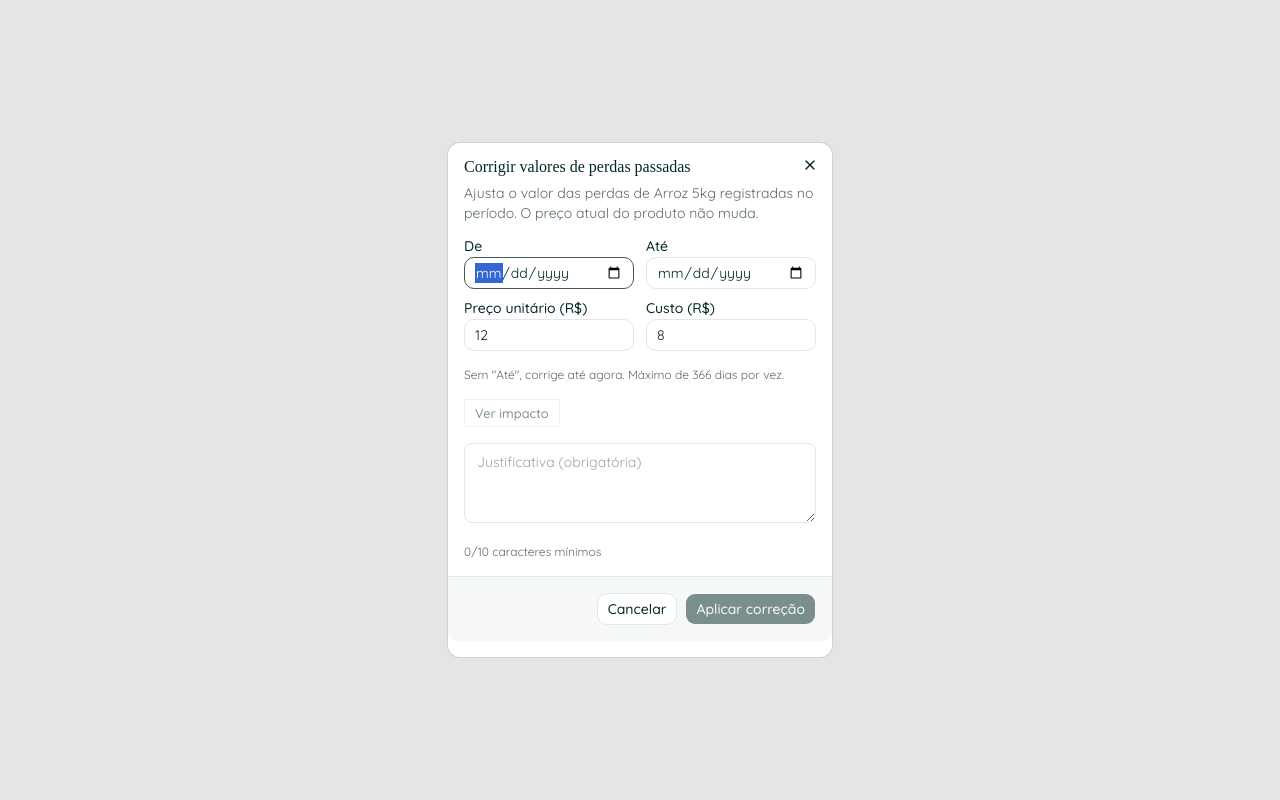
RetroFixDialog › prévia com o período do dia inteiro e os valores atuais do produto
Expected: the heading "Corrigir valores de perdas passadas" is shown, [464,158,691,175]
Type "2026-09-01" into the date field labelled "De" at (549, 273), box [464,257,634,289]
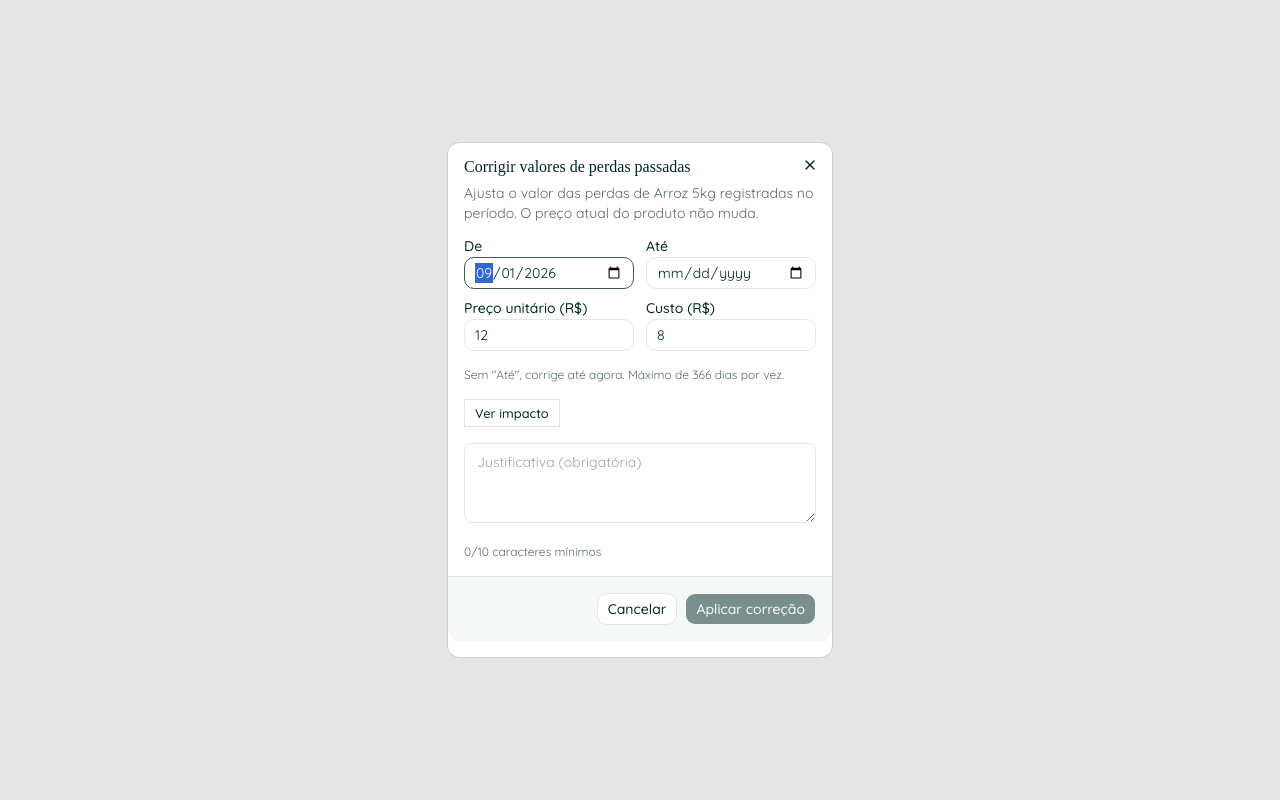
Type "2026-09-20" into the date field labelled "Até" at (731, 273), box [646,257,816,289]
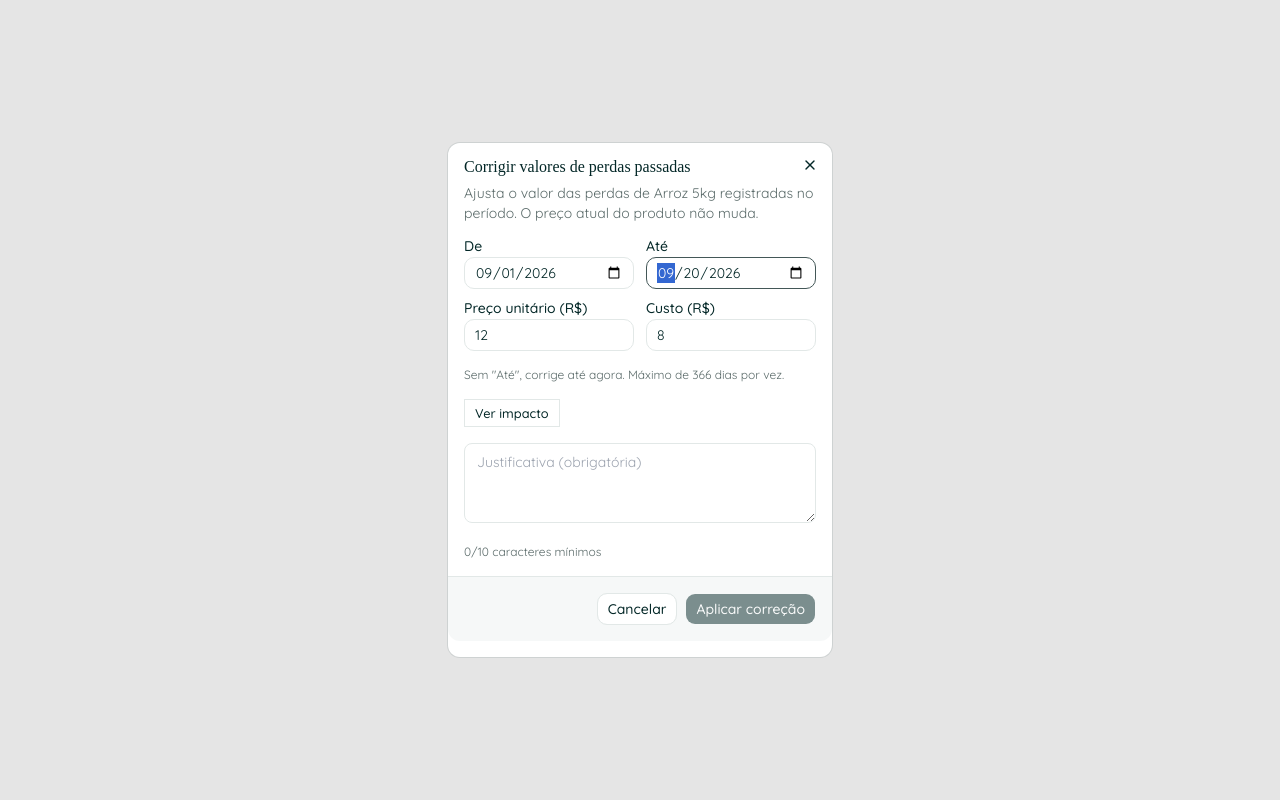
Click the button "Ver impacto" at (512, 413), box [464,399,560,427]
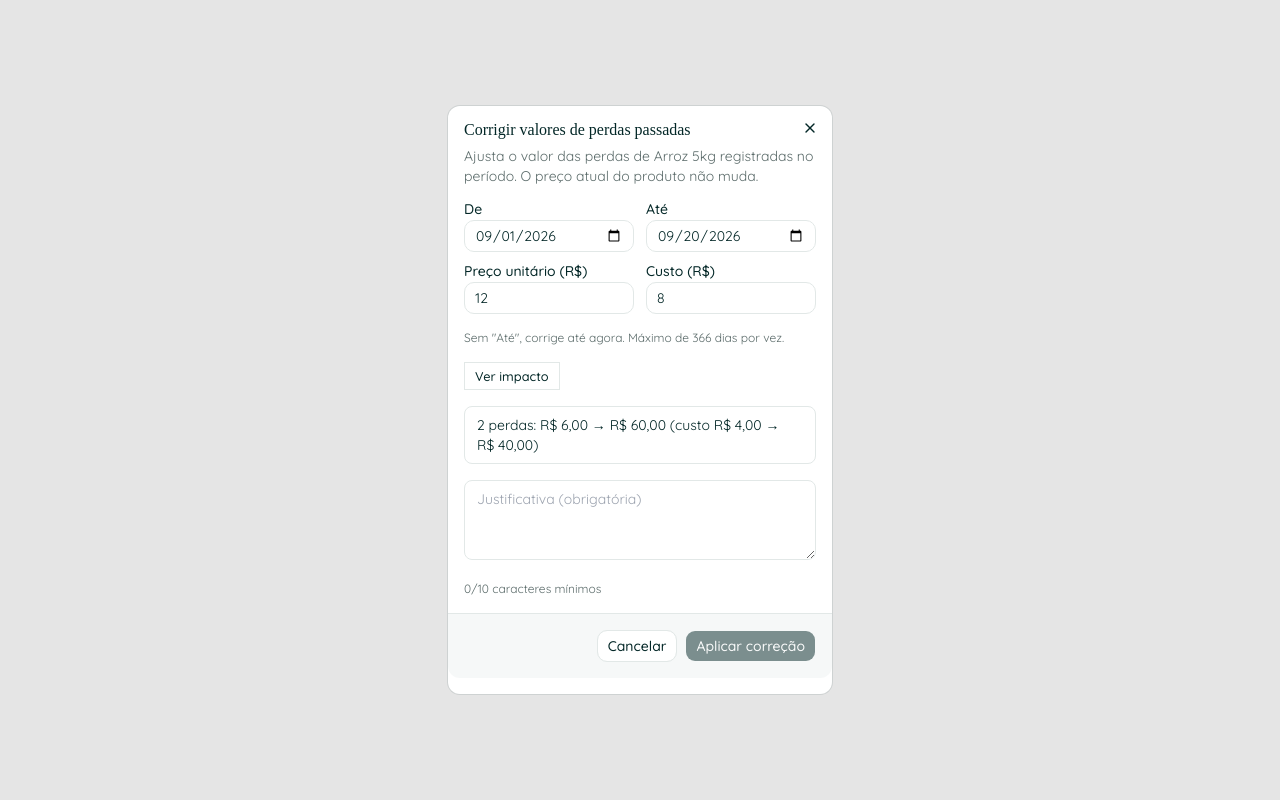
Expected: the button "Aplicar correção" is disabled, [685,630,816,662]
Now the text "2 perdas: R$ 6,00 → R$ 60,00 (custo R$ 4,00 → R$ 40,00)" is shown, box [464,406,816,464]
